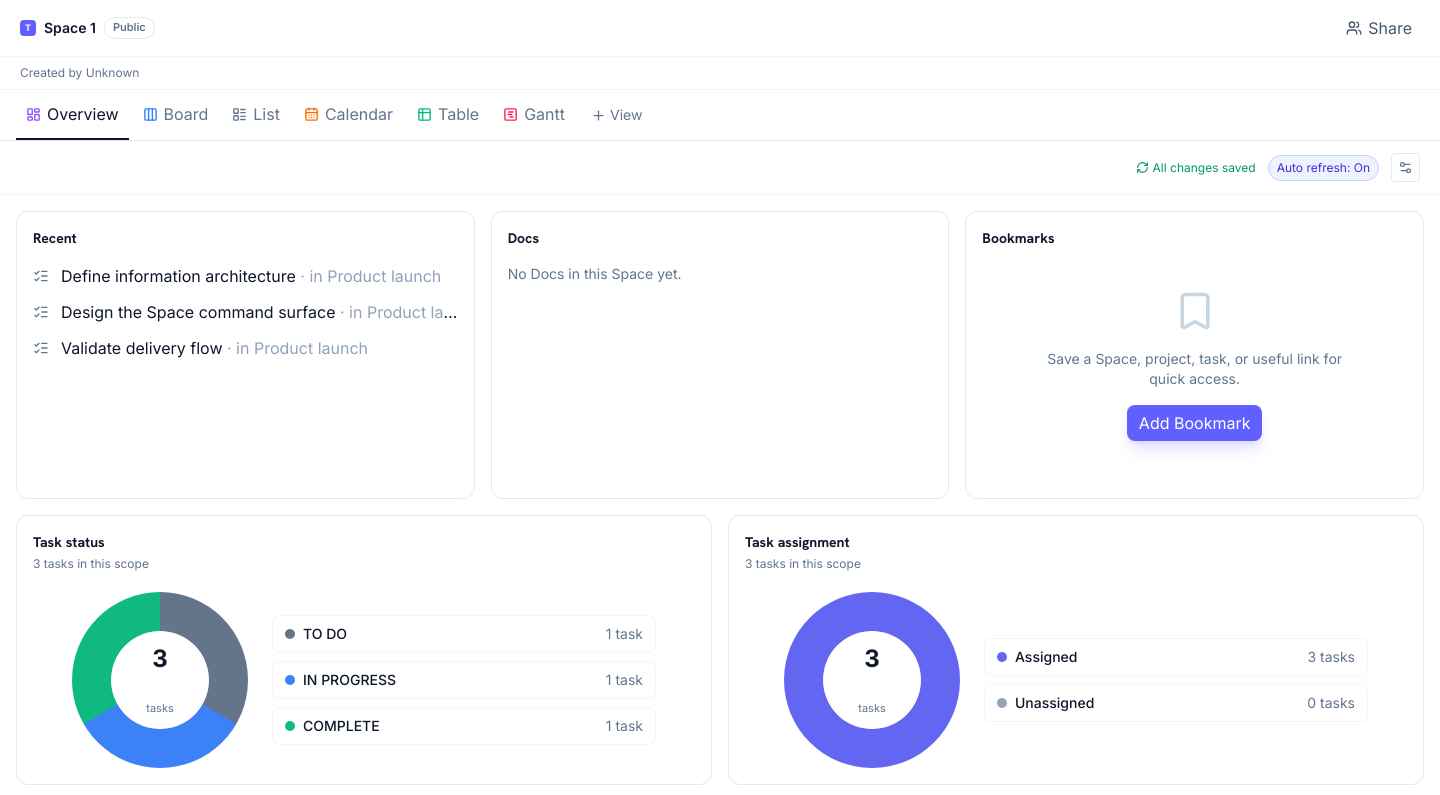
it: WorkspaceRoot › opens a task detail modal from the Space List without navigating to the project workspace
Click the tab "List" at [256, 115], box [222, 90, 290, 140]
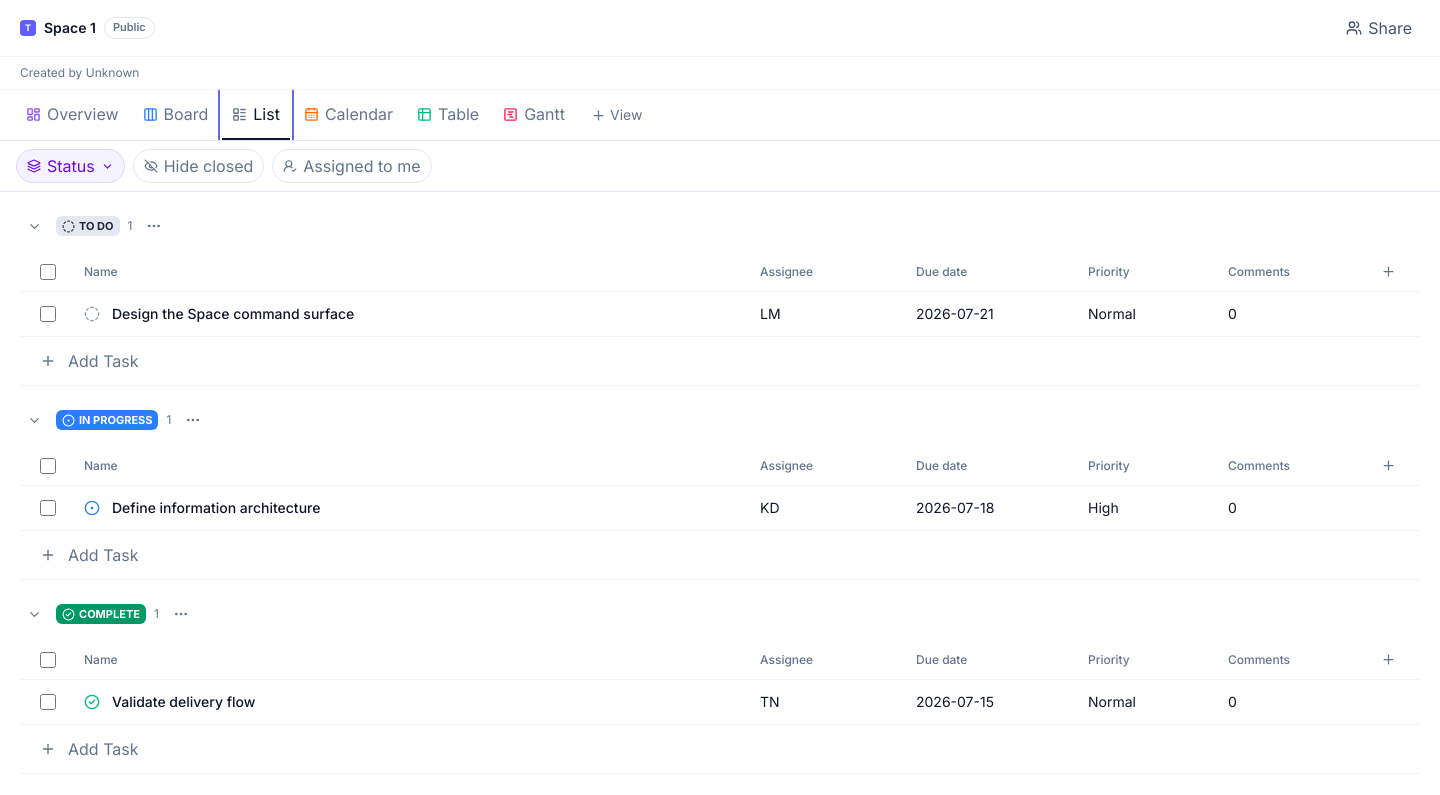
Click the button "Define information architecture" at [216, 508], box [84, 498, 748, 518]
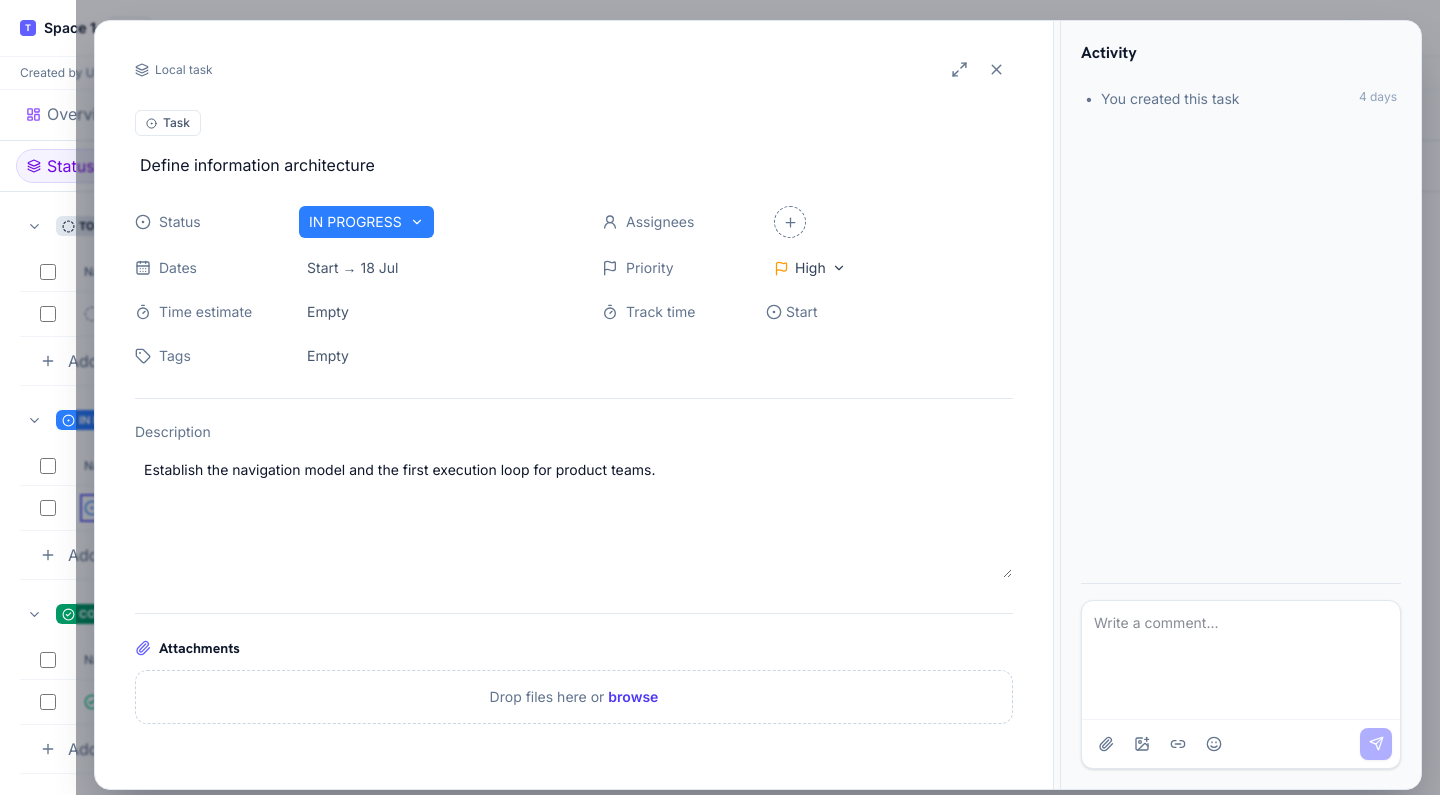
Expected: the dialog is shown
Expected: the field named "Task title" holds "Define information architecture", [135, 148, 1013, 182]
Click the button named "Enter full screen" at [960, 70], box [943, 53, 976, 86]
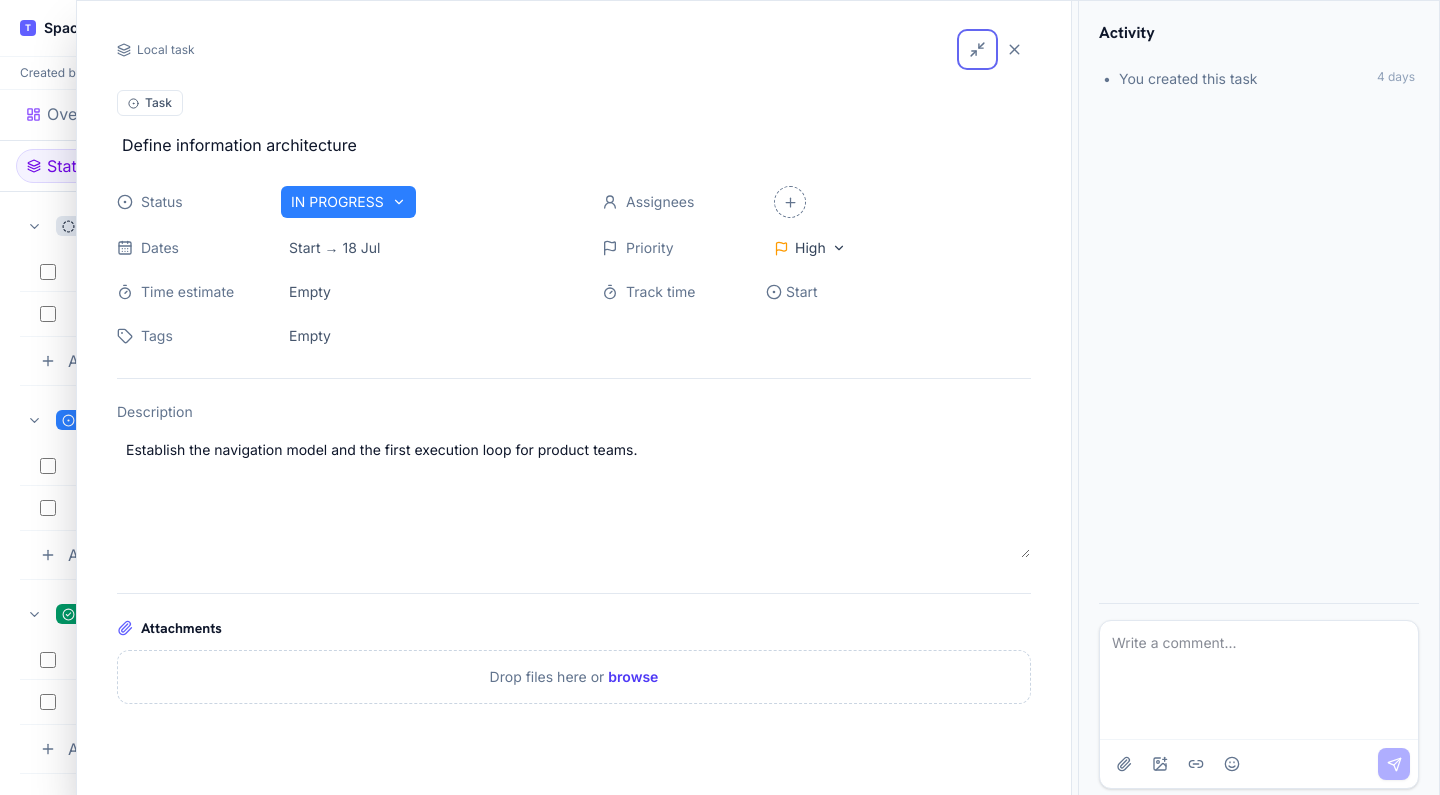
Expected: the button named "Exit full screen" is shown, [961, 33, 994, 66]
